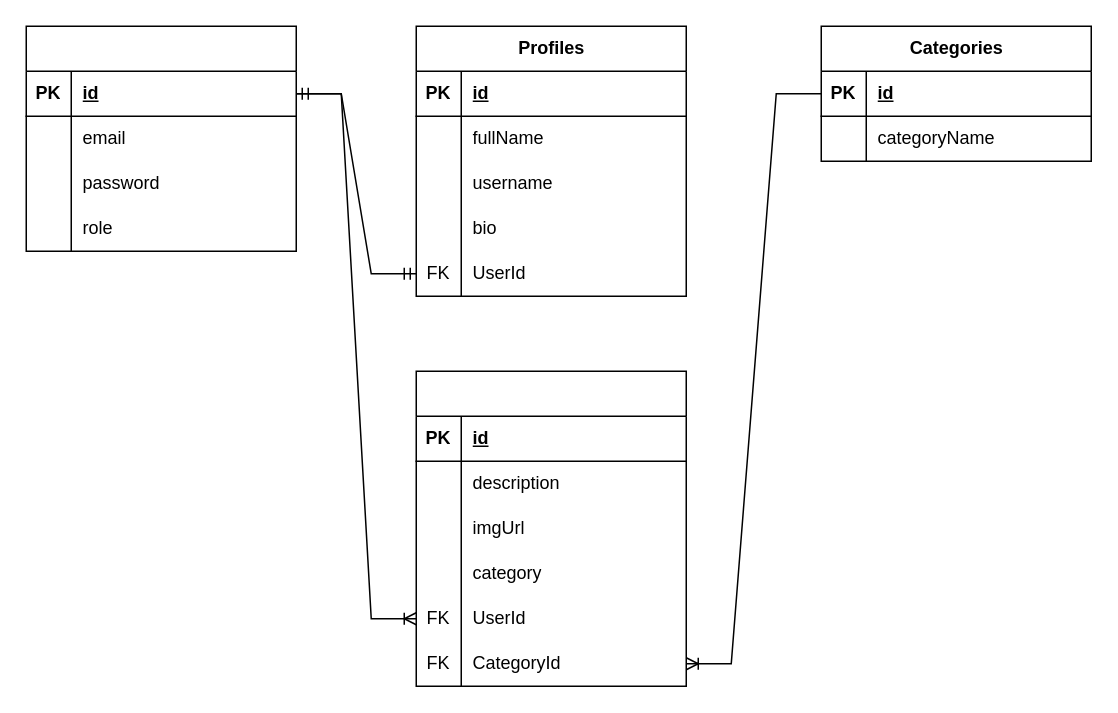
Some shapes in this 1118 by 713 pixel diagram are drawn without their labels. Here are the shapes that lost their labels. From the top down, the box of each, then its label:
(25, 25, 296, 251): Users
(415, 370, 686, 686): Posts
